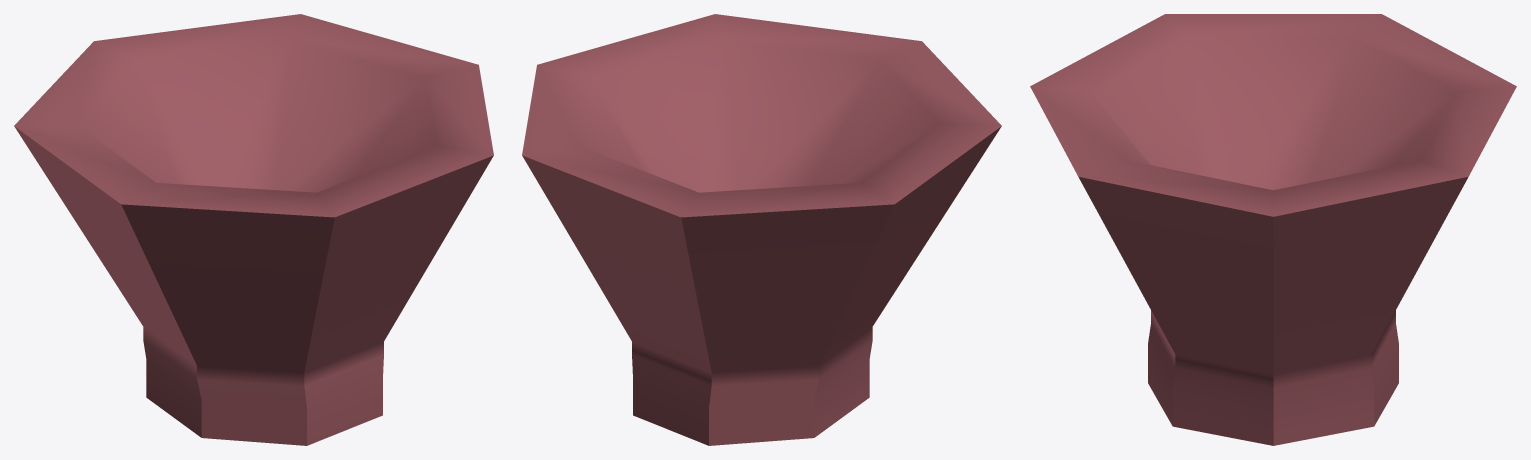
The model's file is flower-ver-2.glb.
3 renders of one model, left to right at view 1: azimuth 30°, elevation 25°; view 2: azimuth 150°, elevation 25°; view 3: azimuth 270°, elevation 25°, orthographic.
Visible parts, largest first — view 1: flowermodel-ver2; view 2: flowermodel-ver2; view 3: flowermodel-ver2.
Part boxes in pixels (x1,y1,x2,y2): flowermodel-ver2: [14, 14, 493, 445]; flowermodel-ver2: [522, 14, 1001, 445]; flowermodel-ver2: [1030, 14, 1516, 445].
Size of the model in its own units: 3.09 by 2 by 3.13.
